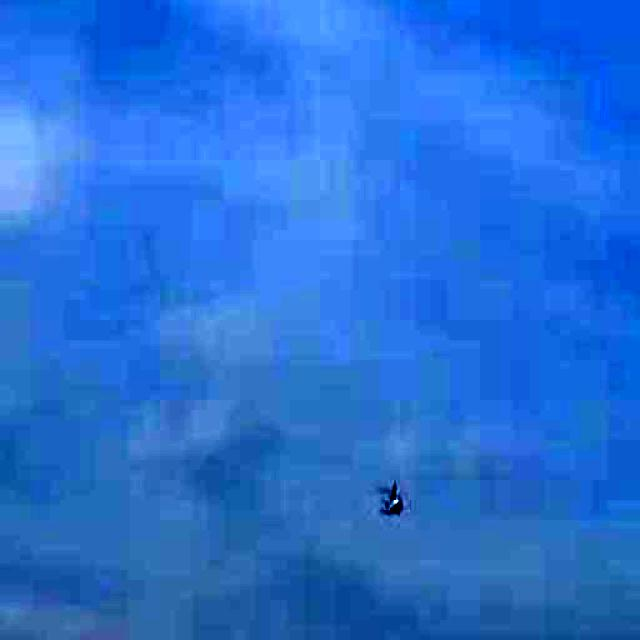drone: (372, 471, 415, 528)
